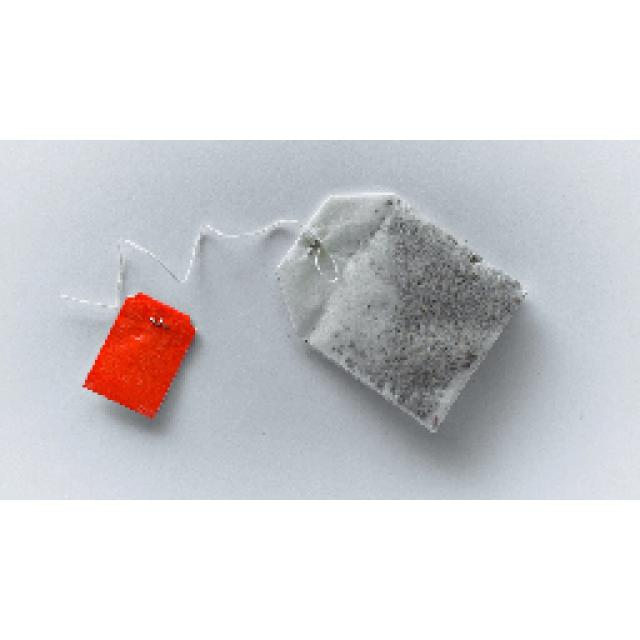tea-bags: (277, 191, 531, 433), (81, 289, 196, 419)
